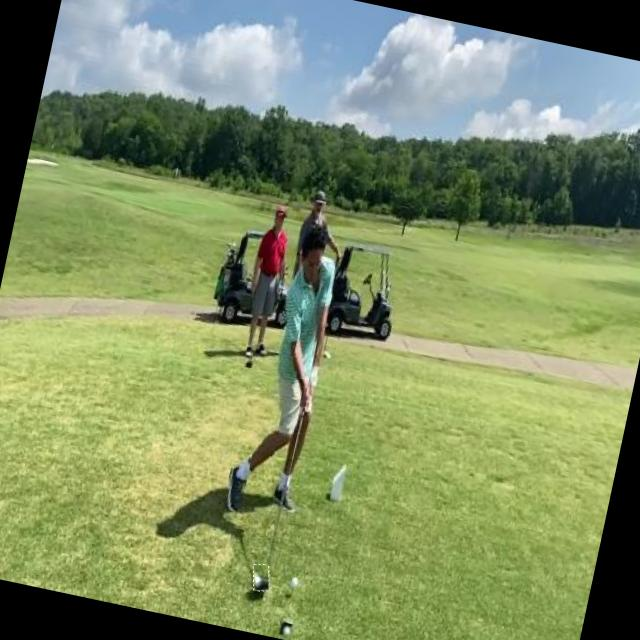club head: (249, 562, 272, 593)
